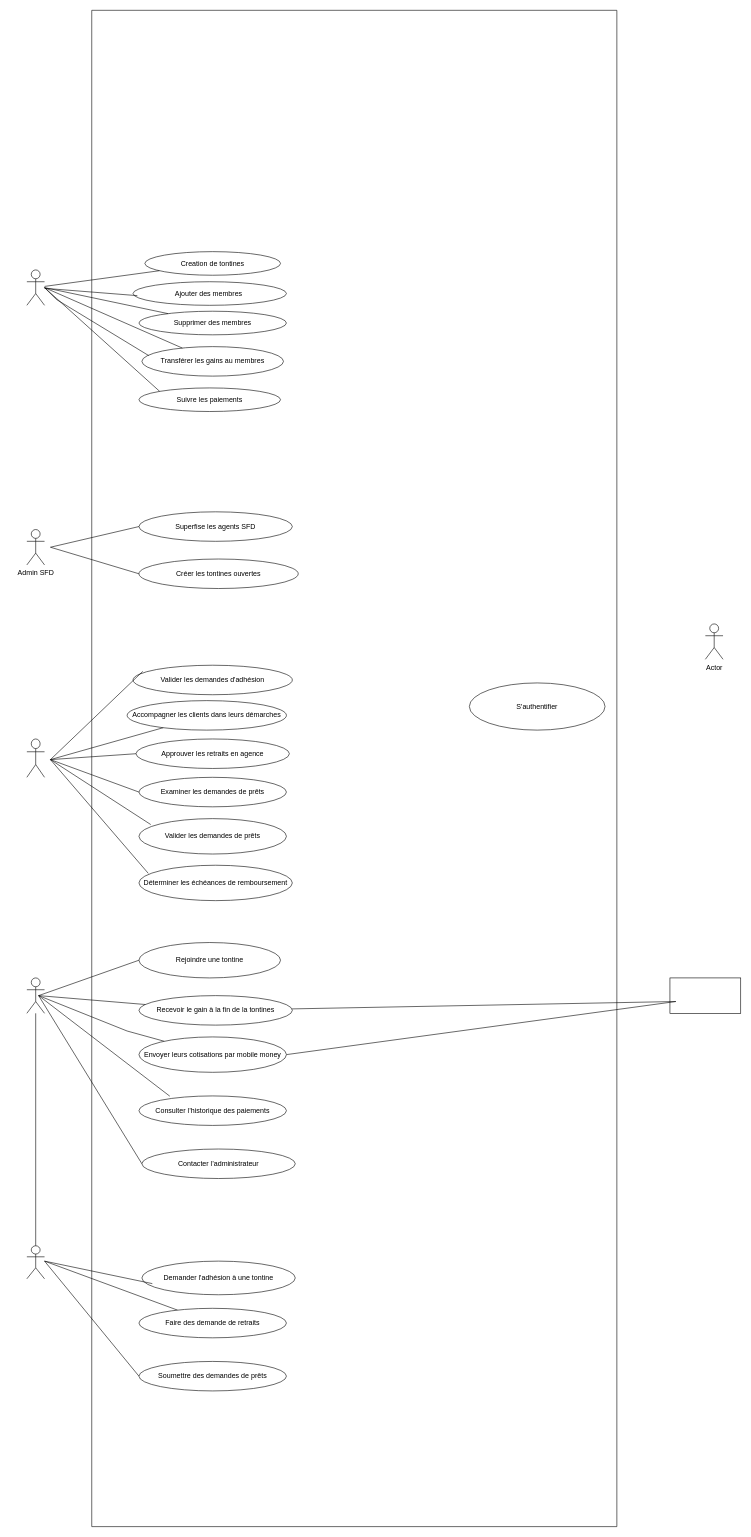
This 751x1537 diagram has some shape labels left out. Each missing label, with the centre of its shape:
"Agents SFD" goes at [35,757].
"Clients SFD" goes at [35,1262].
"Membre d'une tf" goes at [35,995].
"Tontinier" goes at [35,287].
